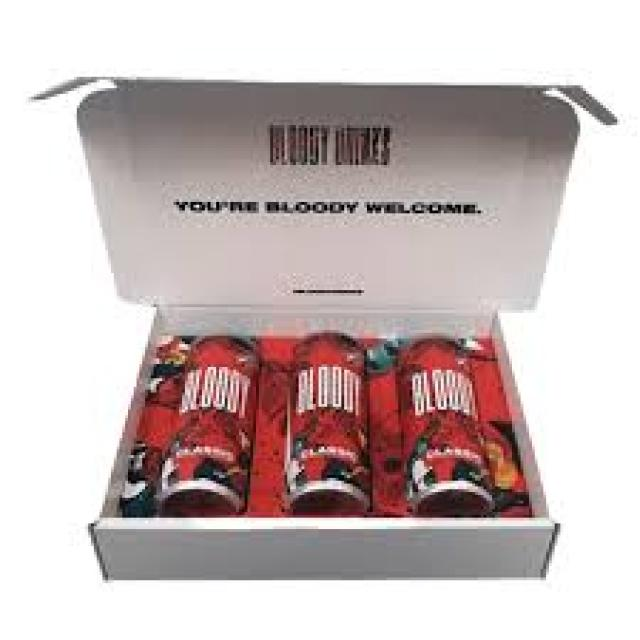Cans: (384, 324, 509, 524), (273, 330, 387, 520), (156, 327, 262, 521)
